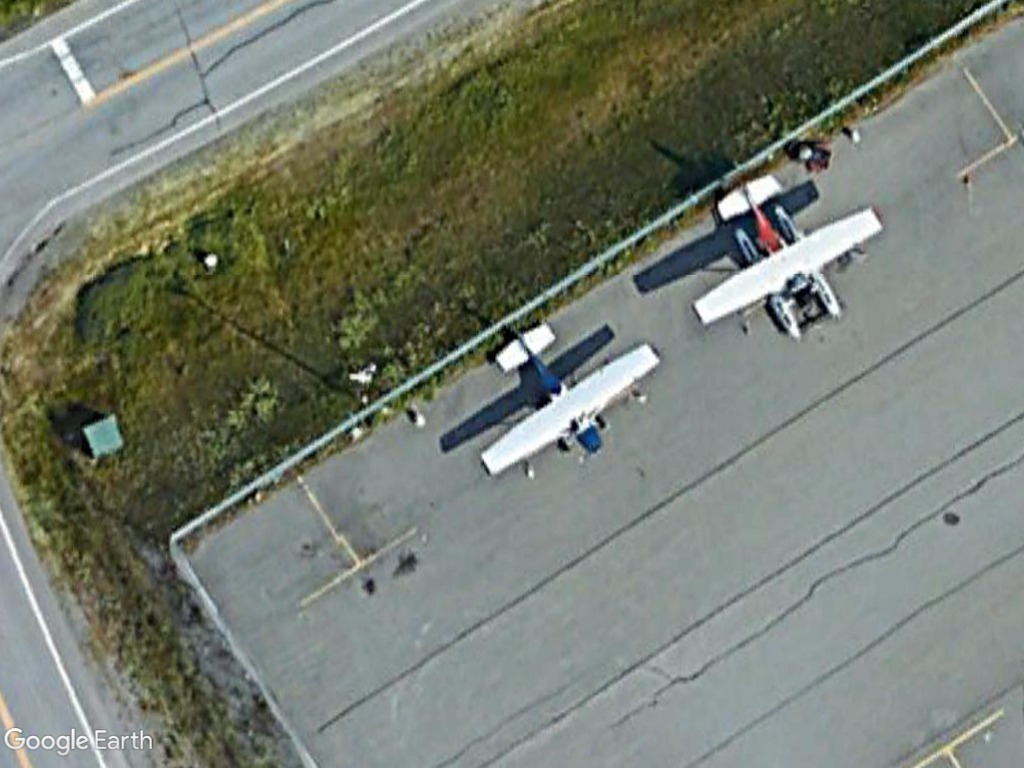trainer: (476, 319, 662, 487)
